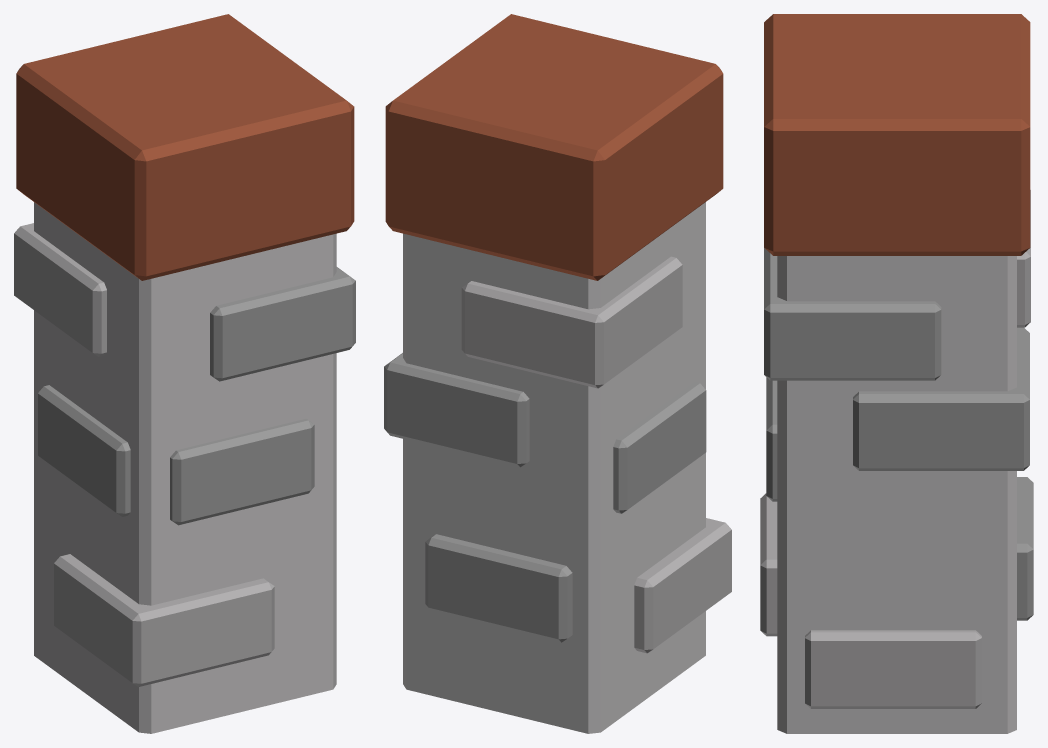
The model's file is SM_Wall_3.fbx.
3 views of the same model, side by side, from view 1: azimuth 30°, elevation 25°; view 2: azimuth 150°, elevation 25°; view 3: azimuth 270°, elevation 25° (orthographic). The views are drawn at different scales.
Visible parts, largest first — view 1: SM_Wall_3_LOD0; view 2: SM_Wall_3_LOD0; view 3: SM_Wall_3_LOD0.
Boxes of the visible parts, x1=… form: SM_Wall_3_LOD0: x1=14, y1=14, x2=355, y2=733; SM_Wall_3_LOD0: x1=384, y1=14, x2=731, y2=733; SM_Wall_3_LOD0: x1=760, y1=14, x2=1033, y2=733.
Size of the model in its own units: 90.18 by 90.33 by 225.
Materials: 1 (1 with a texture image).
